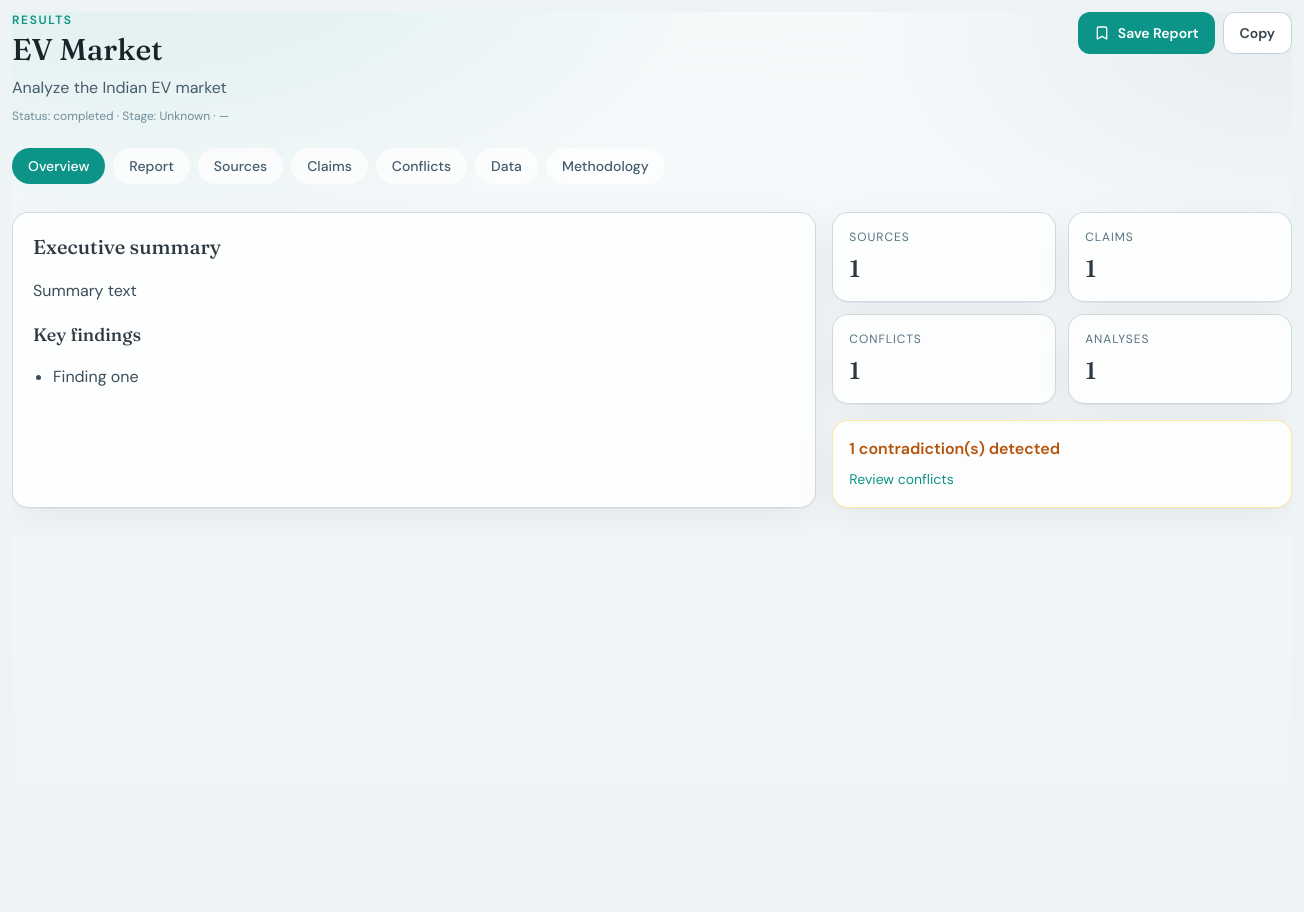
it: Research results › renders overview sources claims and charts from mocked API
expect the heading "EV Market" is shown: met, box x1=12 y1=31 x2=162 y2=68
expect the text "Summary text" is shown: met, box x1=33 y1=280 x2=137 y2=301
What coordinates should you click on to do the following:
click the tab "Sources"
I would click on:
 (240, 166)
Its box is x1=198 y1=148 x2=283 y2=184.
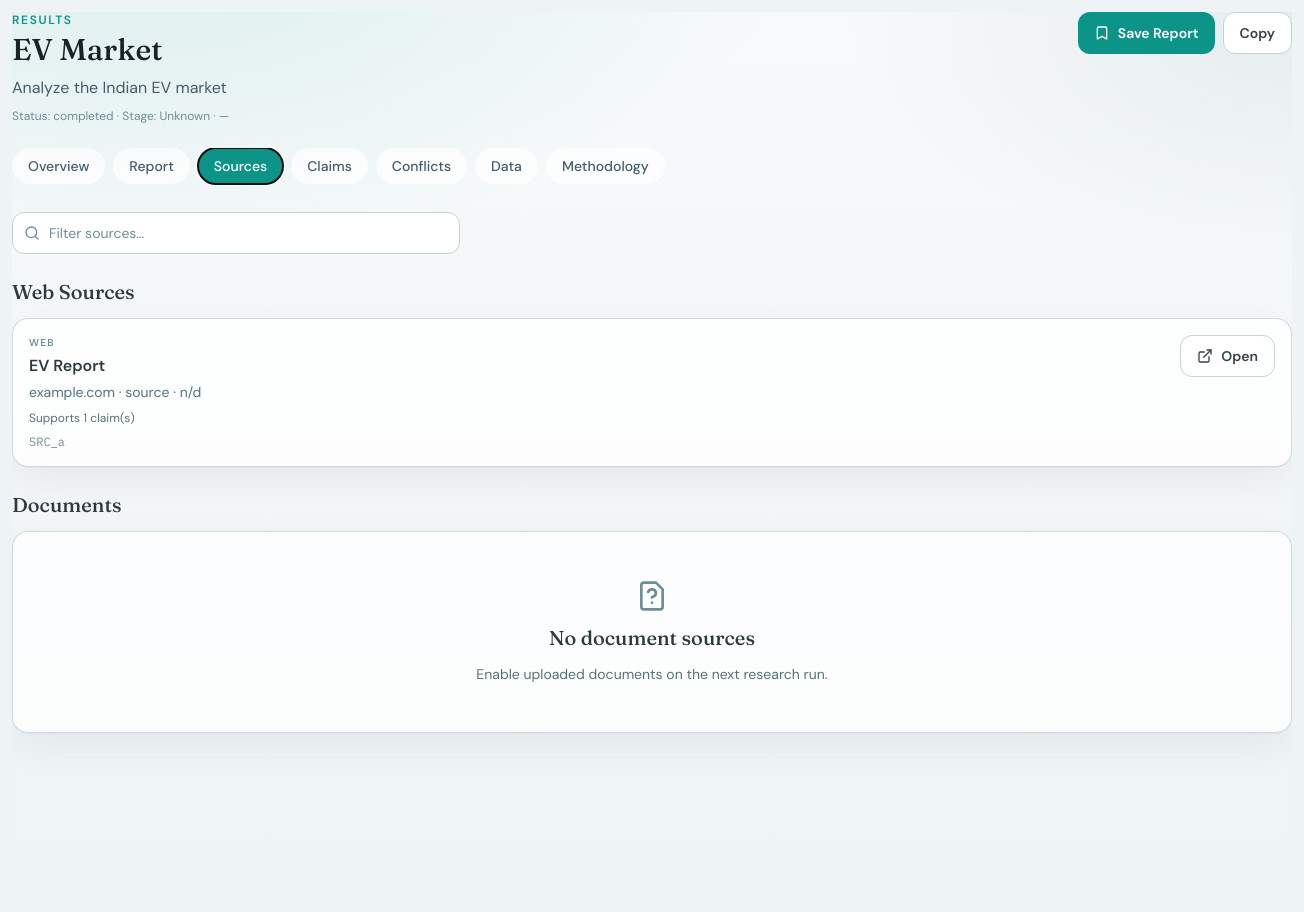
expect the heading "EV Report" is shown: met, box x1=29 y1=355 x2=105 y2=376
What coordinates should you click on to do the following:
click the tab "Claims"
I would click on:
 (330, 166)
Its box is x1=291 y1=148 x2=368 y2=184.
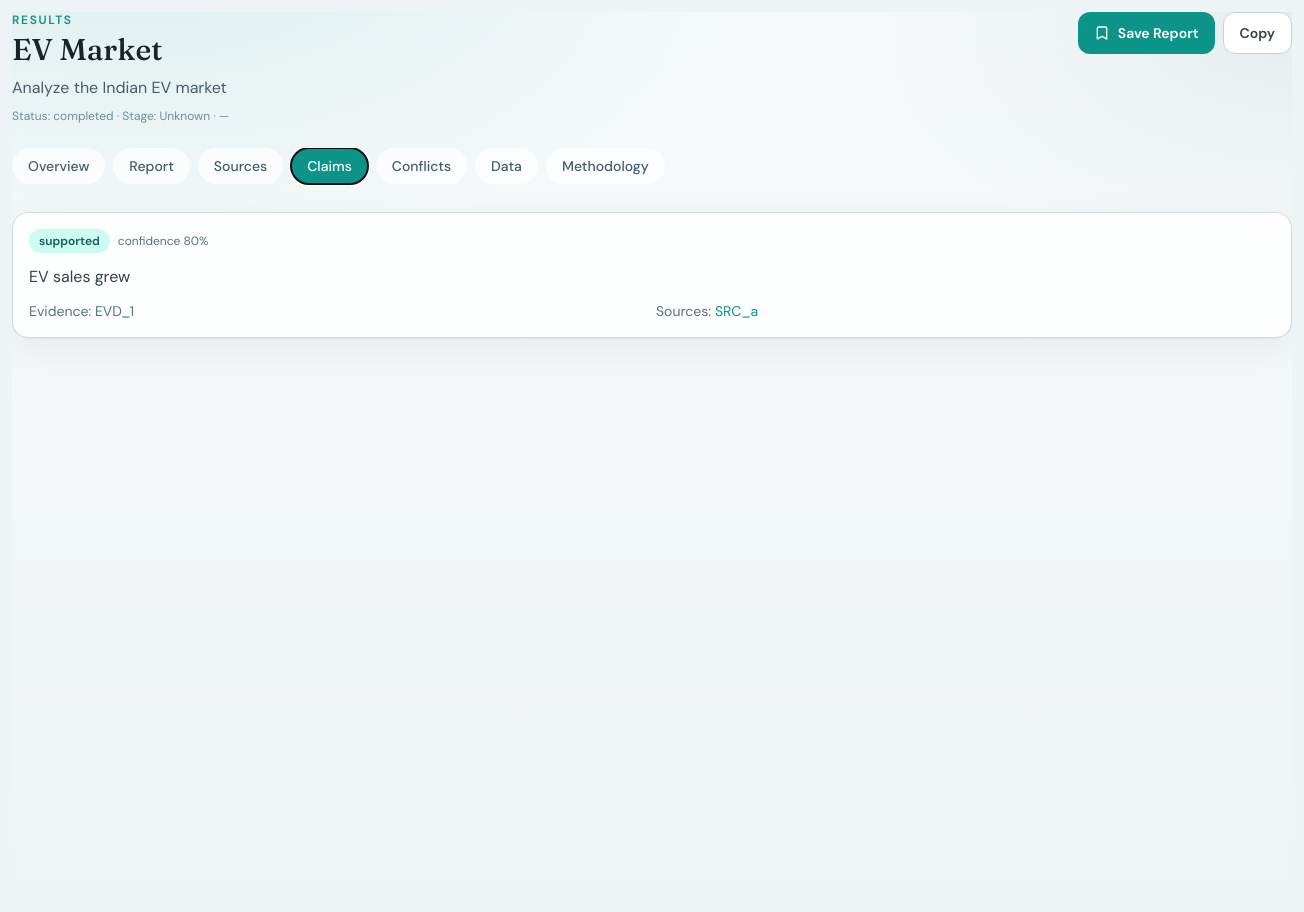
expect the text "EV sales grew" is shown: met, box x1=29 y1=266 x2=130 y2=287
What coordinates should you click on to do the following:
click the tab "Data"
I would click on:
 (506, 166)
Its box is x1=475 y1=148 x2=538 y2=184.
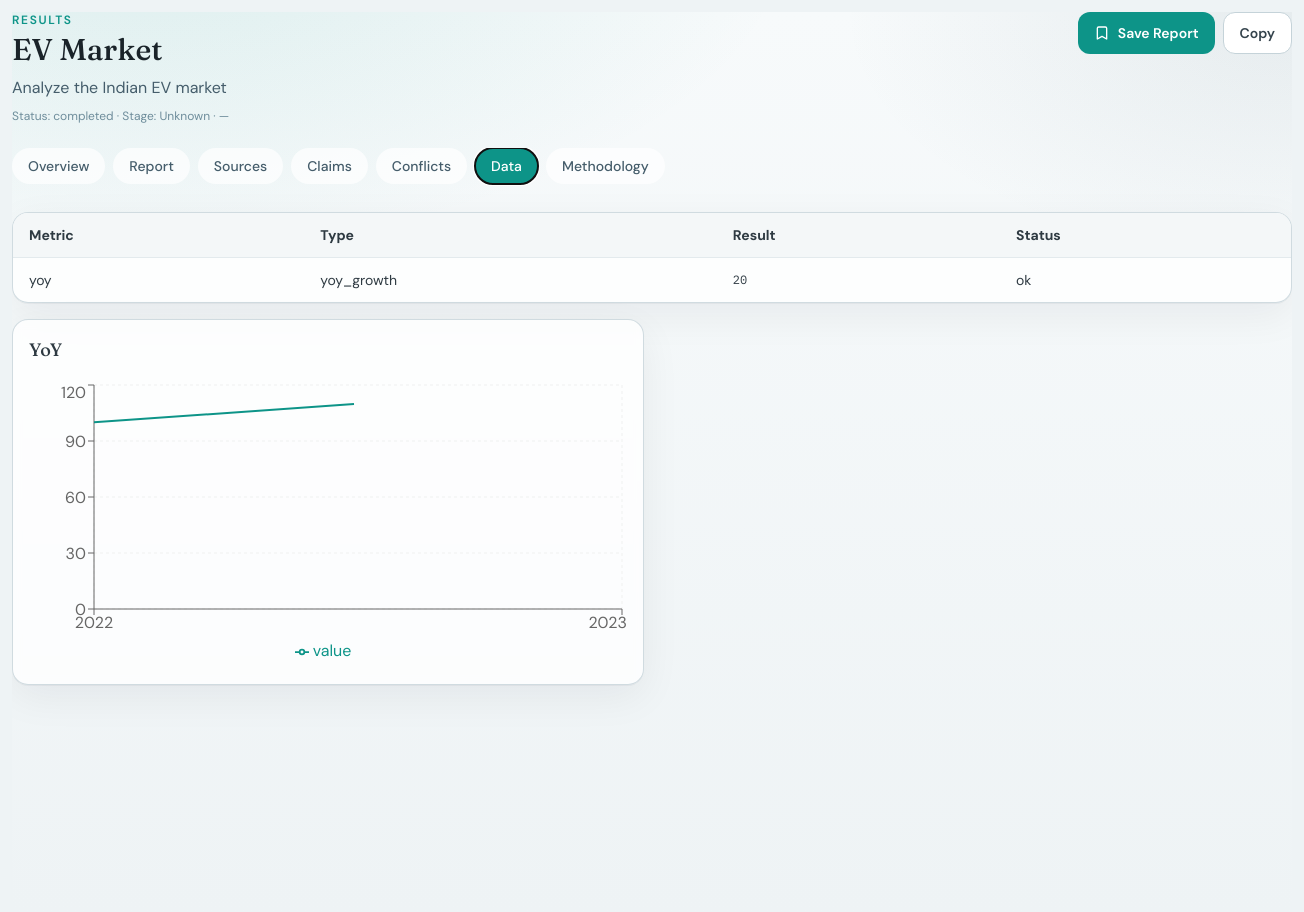
expect the heading "YoY" is shown: met, box x1=29 y1=338 x2=62 y2=361
